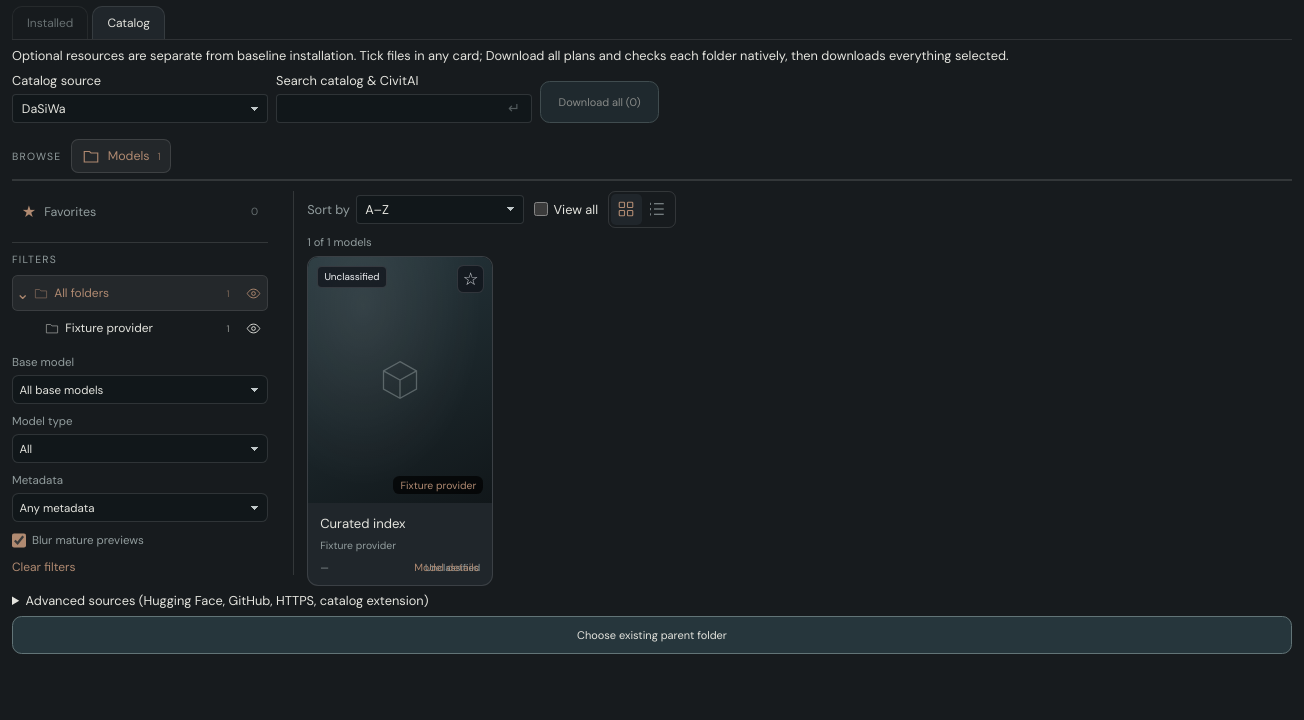
Test: keeps native search matches whose titles do not contain the provider query
This screenshot has width=1304, height=720.
Type "provider-tag" into the field labelled "Search catalog & CivitAI" at coordinates (404, 109), box [276,94,532,123]
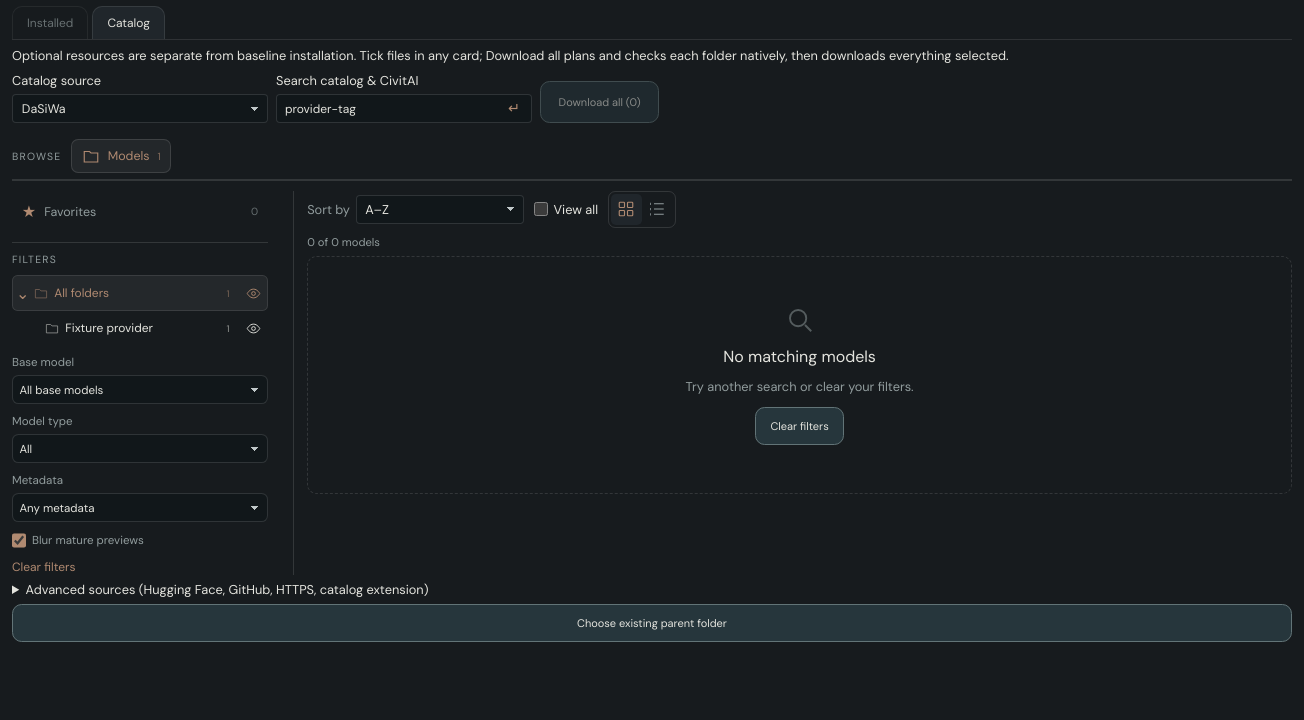
Click the button named "Search" at coordinates (514, 109), box [498,96,530,121]
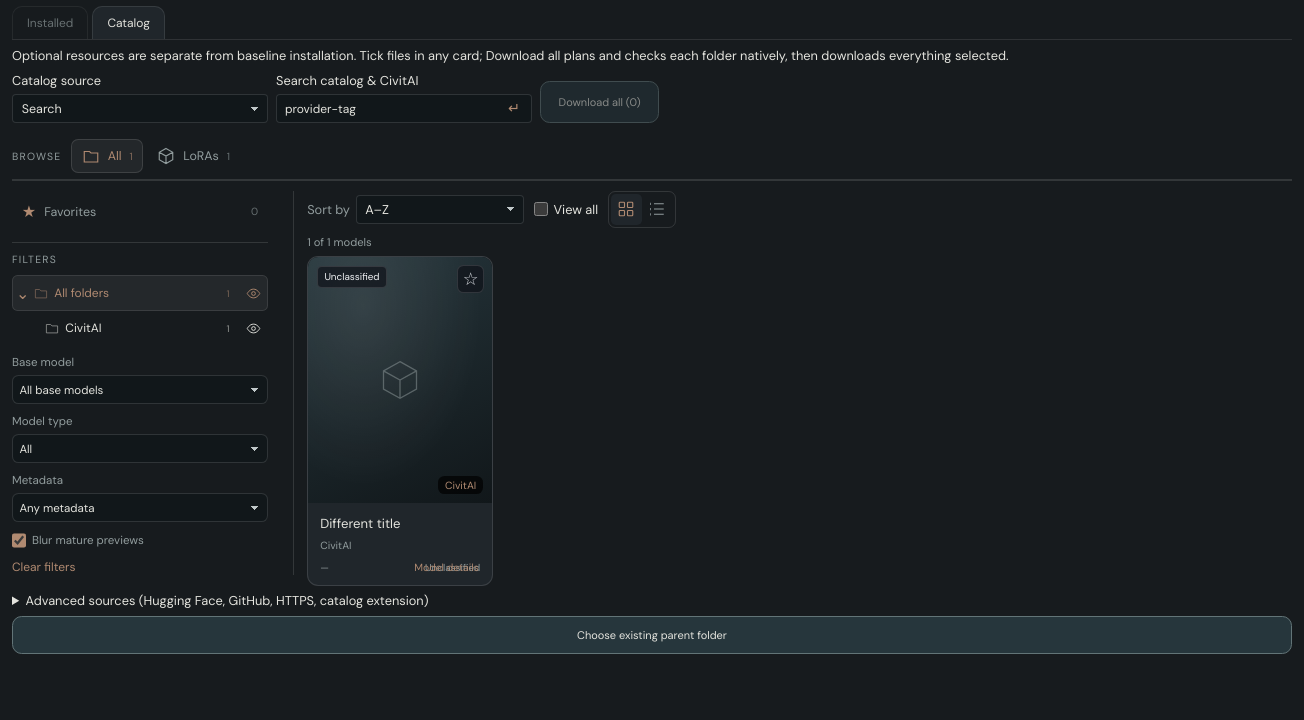
Expected: the button "Different title" is shown, [308,257,492,585]
Replace the text in the field labelled "Search catalog & CivitAI" with "absent local text" at coordinates (404, 109), box [276,94,532,123]
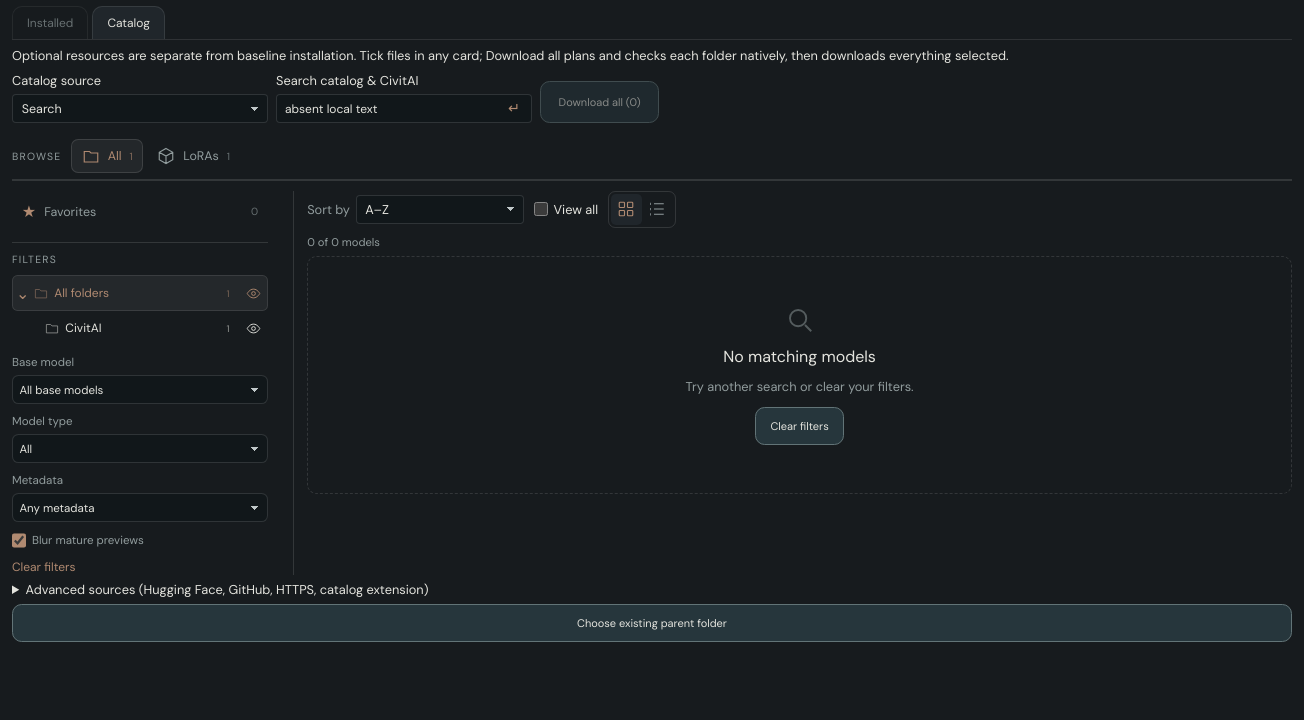
Expected: the button "Different title" is gone
